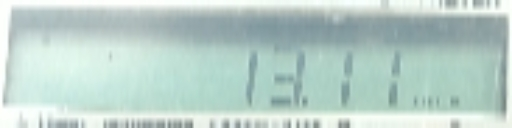1: (233, 47, 261, 128), (383, 47, 408, 108), (336, 46, 356, 106)
3: (267, 39, 300, 106)
d: (299, 94, 312, 109)
